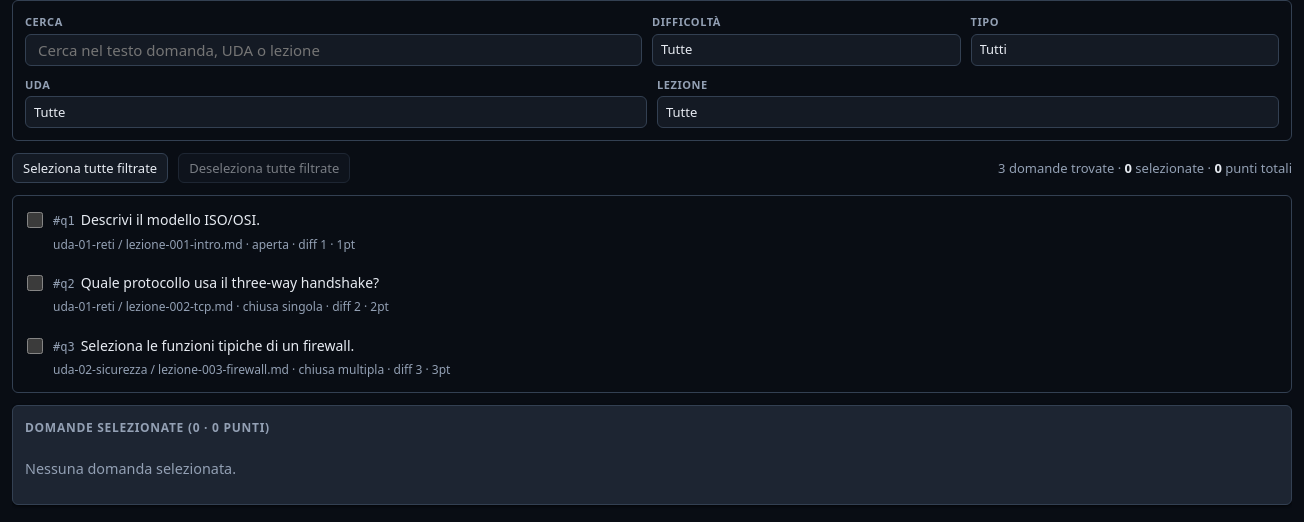
Test: QuestionPicker — filters › filters by lesson
The width and height of the screenshot is (1304, 522).
Select "lezione-002-tcp.md" in the dropdown named "Filtra per lezione" at (968, 112), box top-left (657, 96), bottom-right (1279, 128)
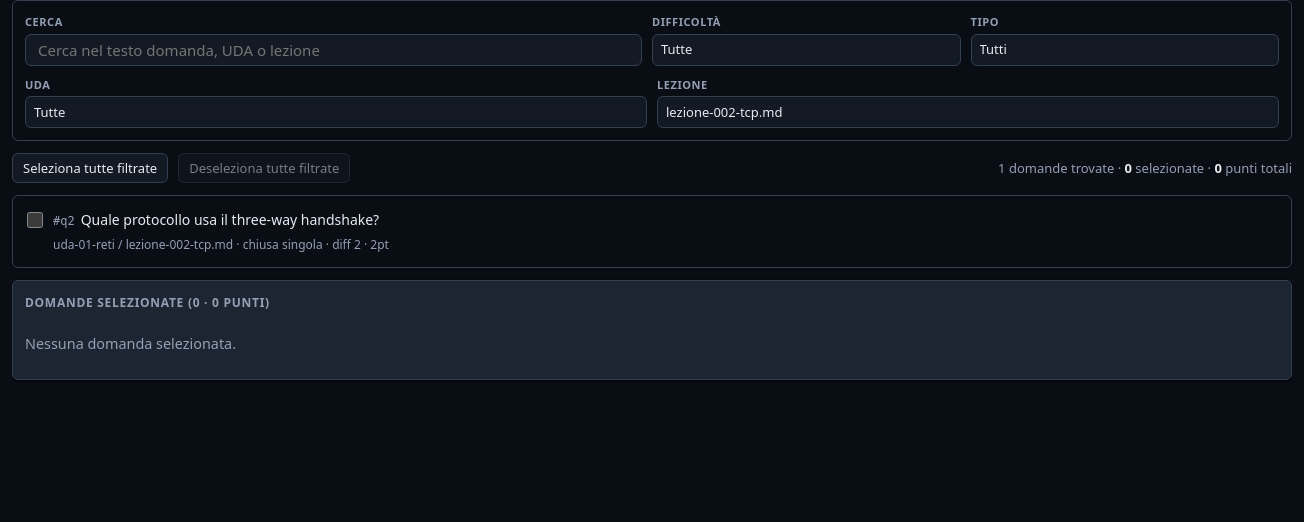
Check: the text "lezione-002-tcp.md" is shown, box top-left (126, 236), bottom-right (233, 253)
Check: the number of list items is 1, box top-left (27, 210), bottom-right (389, 253)
